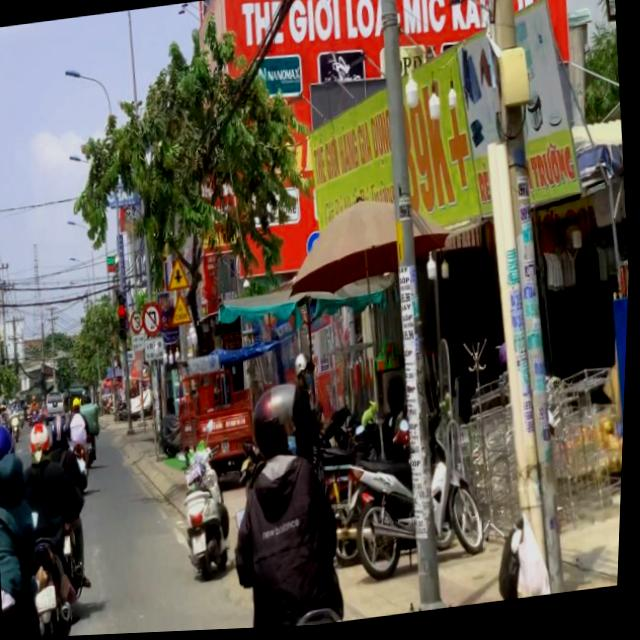Di cham: (171, 291, 195, 327)
Giao nhau voi duong khong uu tien: (167, 256, 193, 293)
